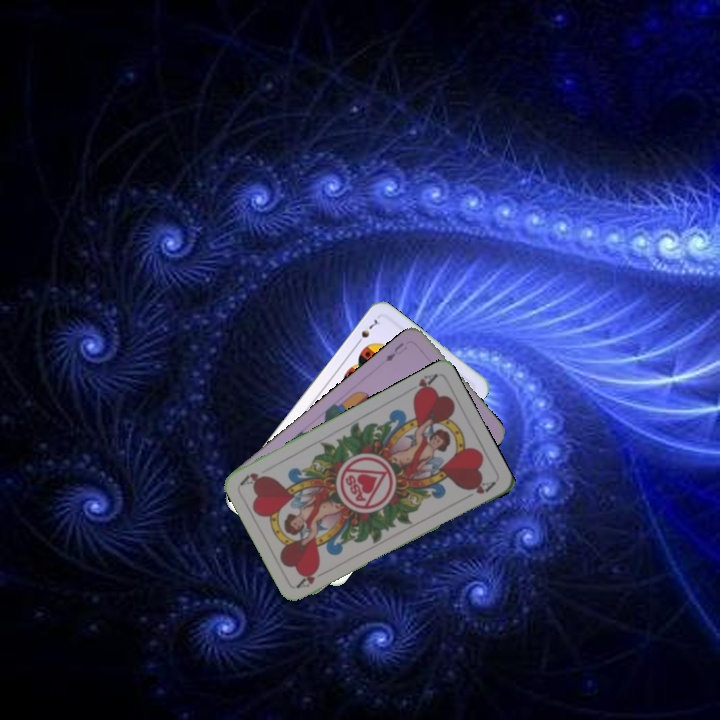EU: (381, 339, 410, 364)
HA: (409, 369, 440, 400), (293, 567, 331, 591)
S7: (352, 315, 380, 348)
